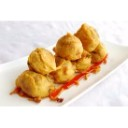bonda: (13, 69, 54, 99), (53, 32, 78, 60), (80, 23, 102, 48)
